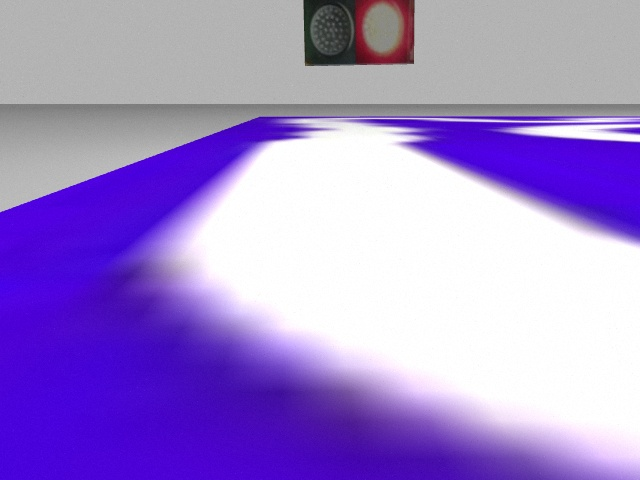red: (355, 1, 414, 64)
